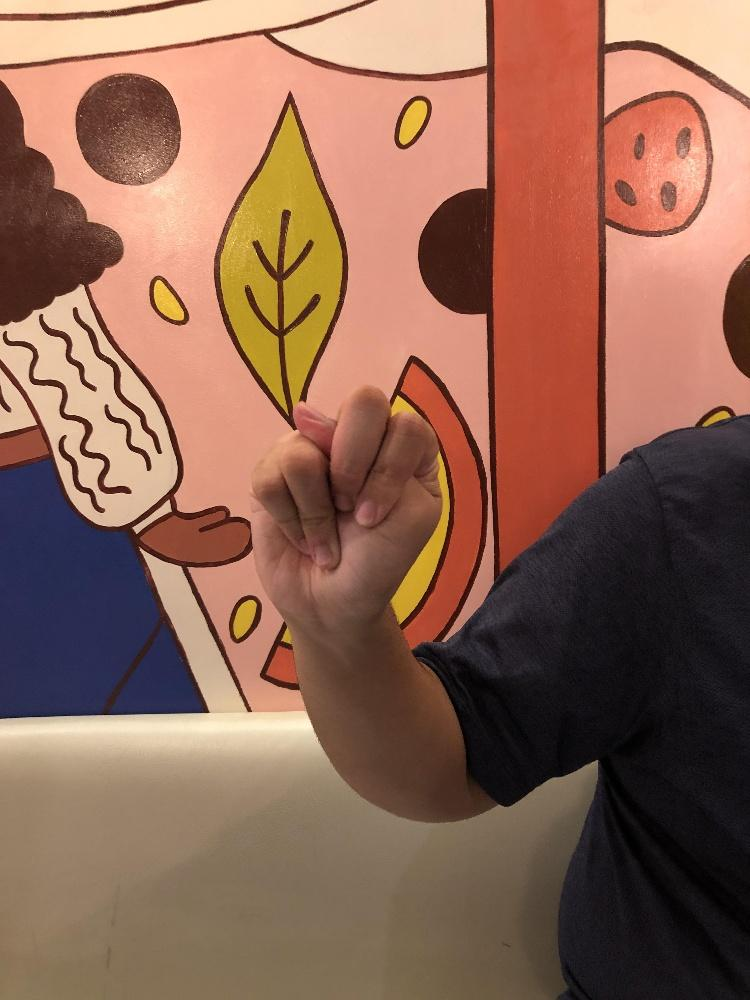n: (244, 381, 445, 626)
